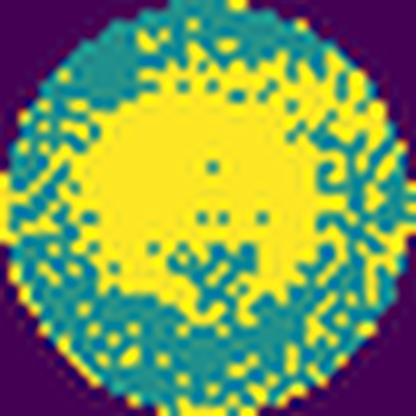Center: (63, 66, 344, 306)
